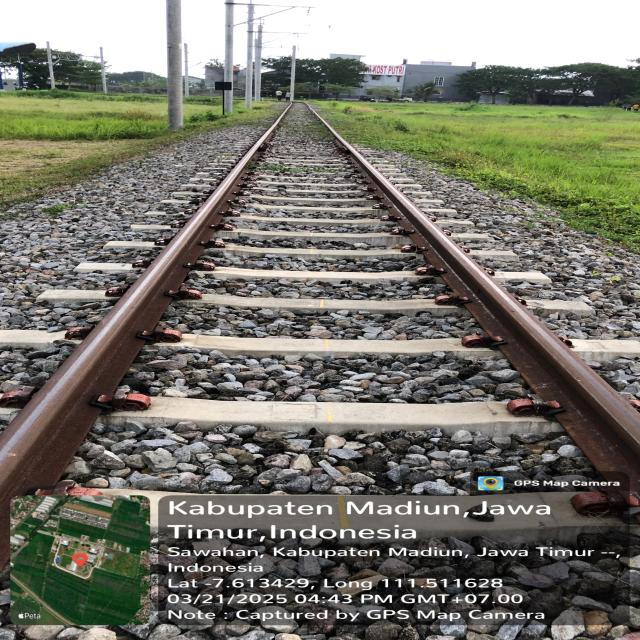rail-detection: (337, 138, 640, 490), (0, 130, 271, 514)
